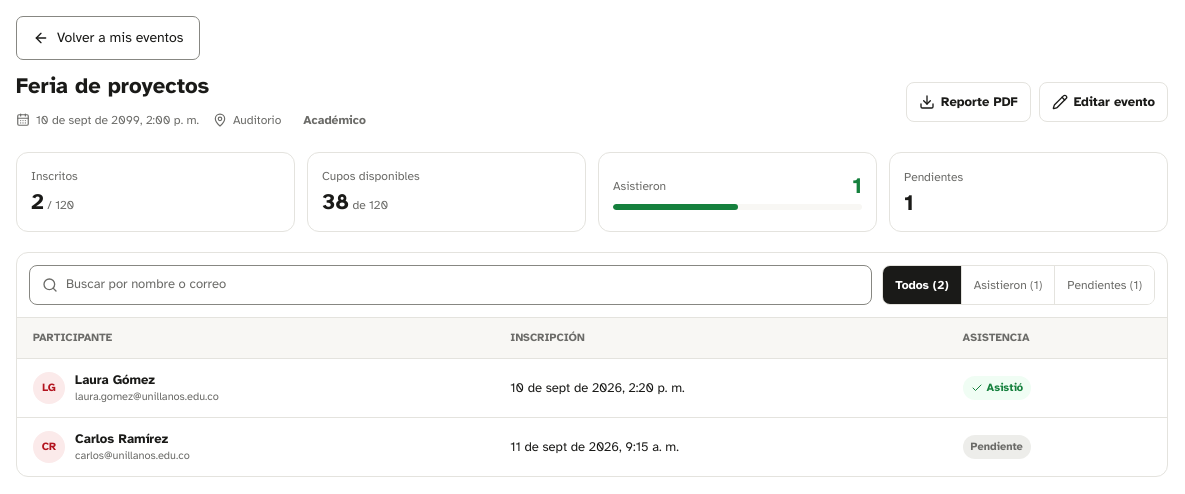
ParticipantesEvento › filtra por nombre o correo ignorando mayúsculas y tildes
Type "ramirez" into the search field labelled "Buscar por nombre o correo" at (463, 285), box x1=66 y1=275 x2=859 y2=295
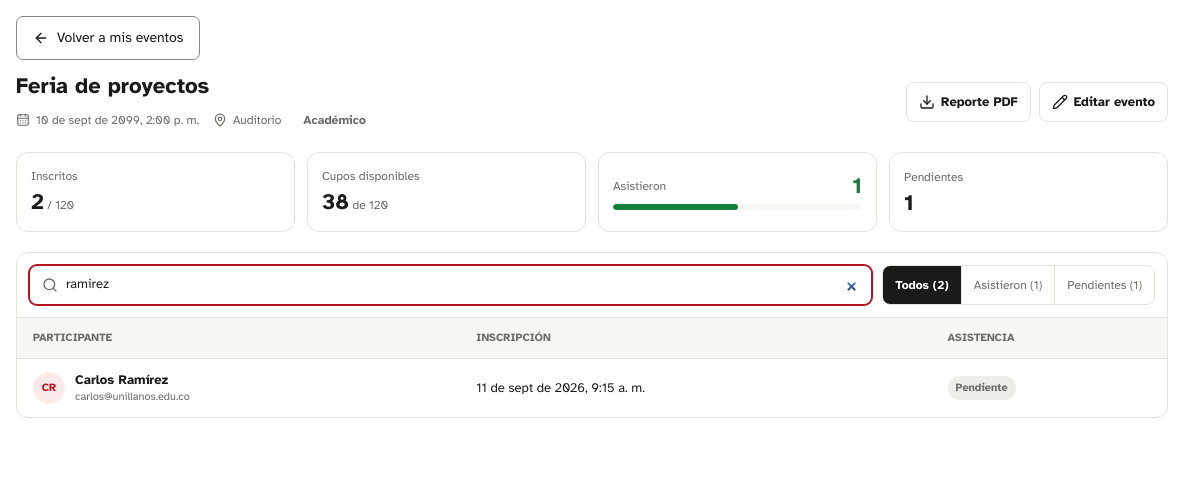
Check: the text "Carlos Ramírez" is shown 2 times
Check: the text "Laura Gómez" is not shown
Replace the text in the search field named "Buscar por nombre o correo" with "LAURA.GOMEZ@" at (463, 285), box x1=66 y1=275 x2=859 y2=295
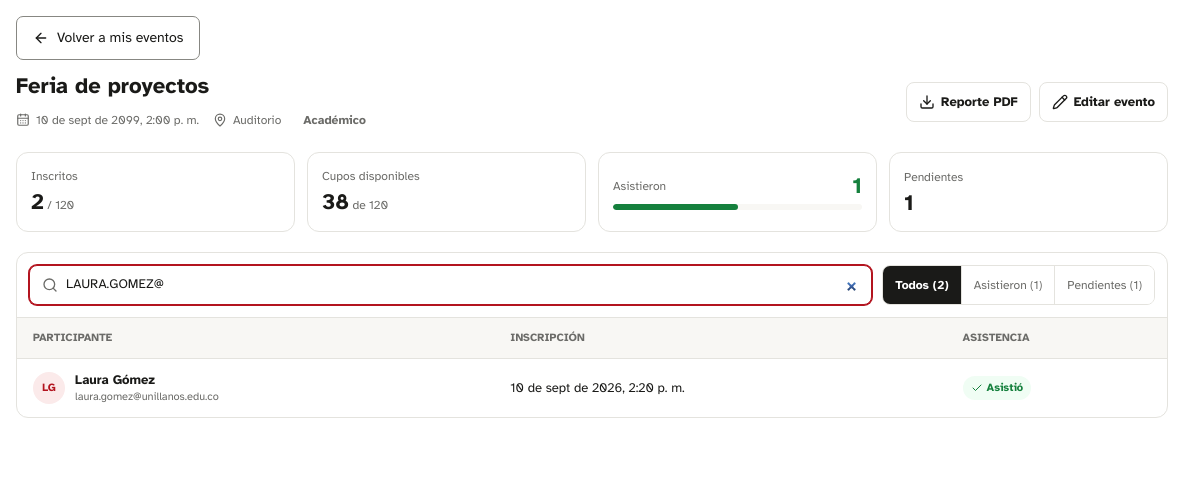
Check: the text "Laura Gómez" is shown 2 times
